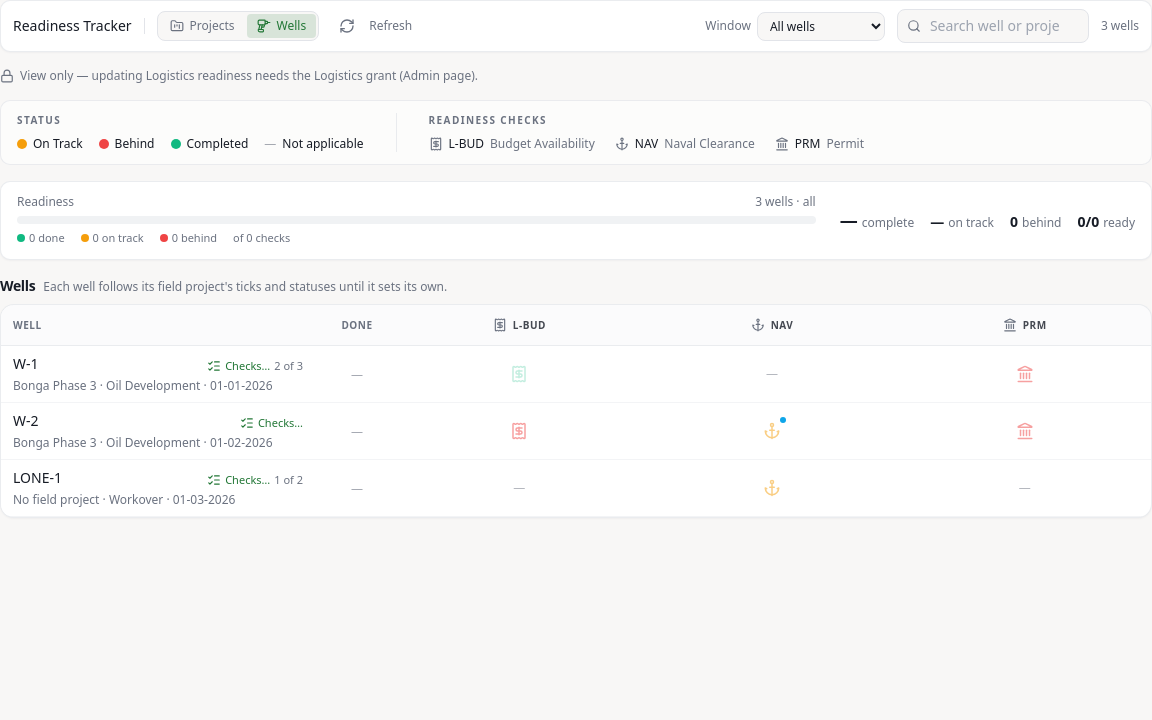
Test: Logistics grid — checks that apply › is read-only without the Logistics grant — the ticks show, nothing changes
Click the button "Checks…" at (271, 422), box 234,410 -> 309,434
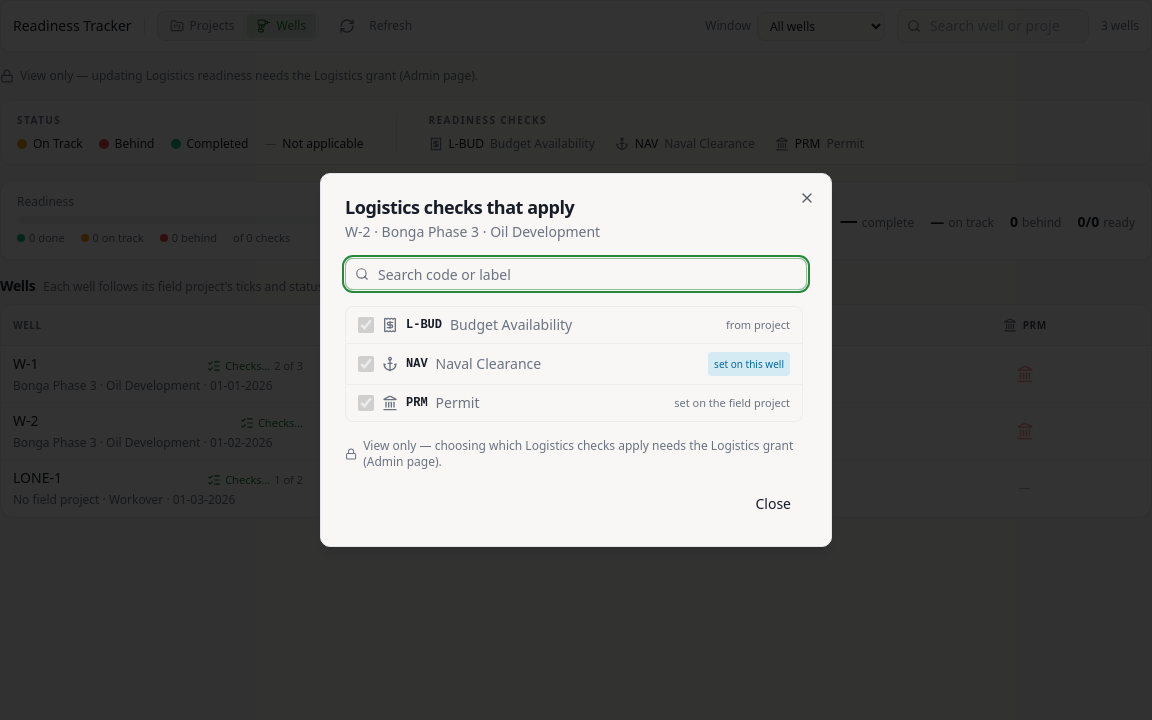
Now the checkbox named "L-BUD — Budget Availability" is disabled, box 358,317 -> 374,333
Now the checkbox named "NAV — Naval Clearance" is disabled, box 358,356 -> 374,372
Now the checkbox named "PRM — Permit" is disabled, box 358,395 -> 374,411
